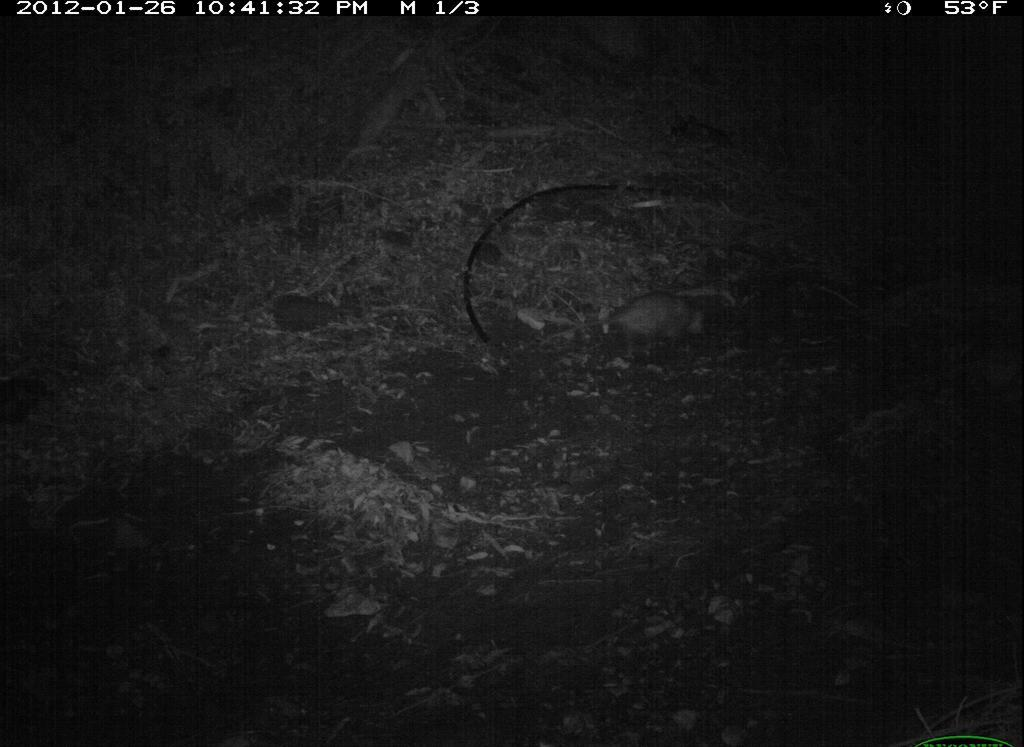opossum: (525, 285, 720, 359)
